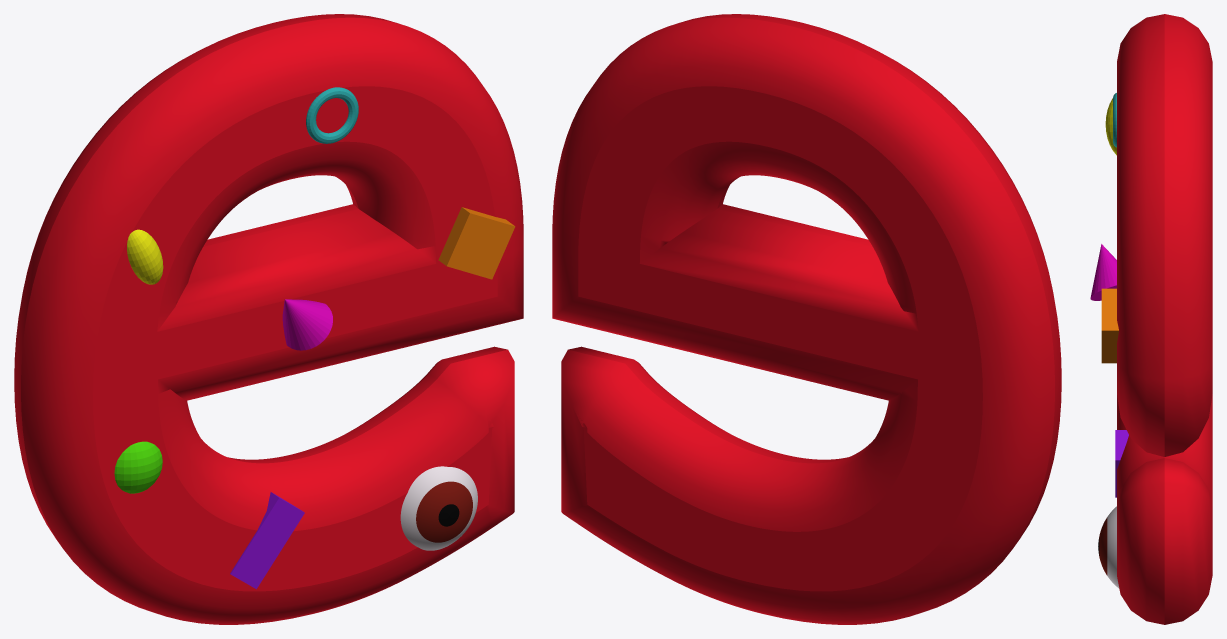
The model's file is e_red.fbx.
3 views of the same model, side by side, from view 1: azimuth 30°, elevation 25°; view 2: azimuth 150°, elevation 25°; view 3: azimuth 270°, elevation 25° (orthographic). The views are drawn at different scales.
Visible parts, largest first — view 1: Text, Sphere, Cube, Cube.001, Cone, Sphere.001, Sphere.002, Torus; view 2: Text; view 3: Text, Cube, Sphere, Cone, Cube.001, Sphere.002, Torus.
Boxes of the visible parts, bbox=[...] form: Text: bbox=[14, 14, 523, 624]; Sphere: bbox=[400, 466, 477, 550]; Cube: bbox=[438, 207, 515, 279]; Cube.001: bbox=[230, 492, 304, 589]; Cone: bbox=[282, 299, 332, 350]; Sphere.001: bbox=[114, 441, 162, 493]; Sphere.002: bbox=[127, 229, 163, 284]; Torus: bbox=[306, 87, 358, 143]; Text: bbox=[552, 14, 1061, 624]; Text: bbox=[1117, 14, 1212, 624]; Cube: bbox=[1101, 288, 1118, 363]; Sphere: bbox=[1098, 506, 1119, 588]; Cone: bbox=[1090, 244, 1116, 300]; Cube.001: bbox=[1115, 430, 1128, 497]; Sphere.002: bbox=[1105, 98, 1116, 155]; Torus: bbox=[1113, 93, 1116, 147].
Bounding box in the file's own units: 107 × 121 × 25.21.
